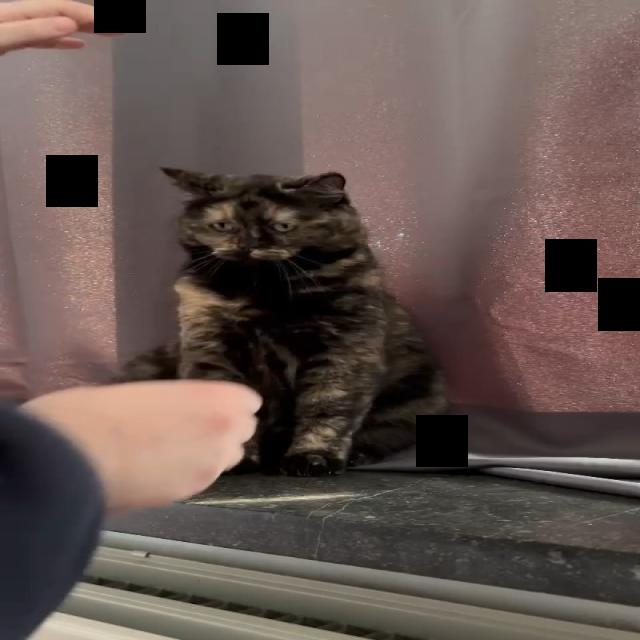authorized: (108, 165, 451, 477)
